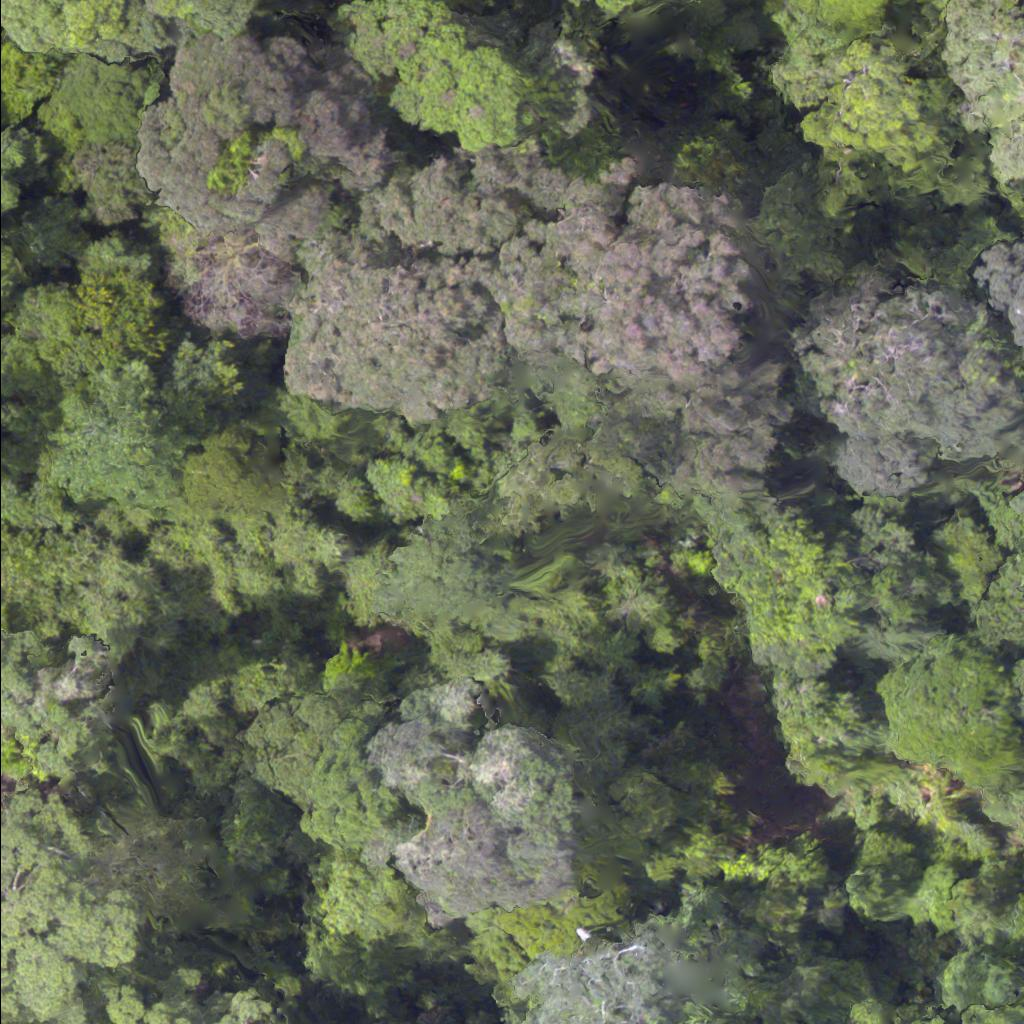crown: (502, 161, 757, 394), (364, 680, 589, 930), (133, 34, 400, 242), (792, 265, 1023, 499), (0, 795, 183, 1023), (281, 254, 509, 418), (336, 0, 540, 155), (778, 36, 950, 166), (879, 633, 1023, 784), (944, 0, 1023, 208), (110, 966, 302, 1023), (973, 238, 1023, 346), (786, 0, 892, 27), (568, 0, 643, 11), (1012, 480, 1023, 532)
